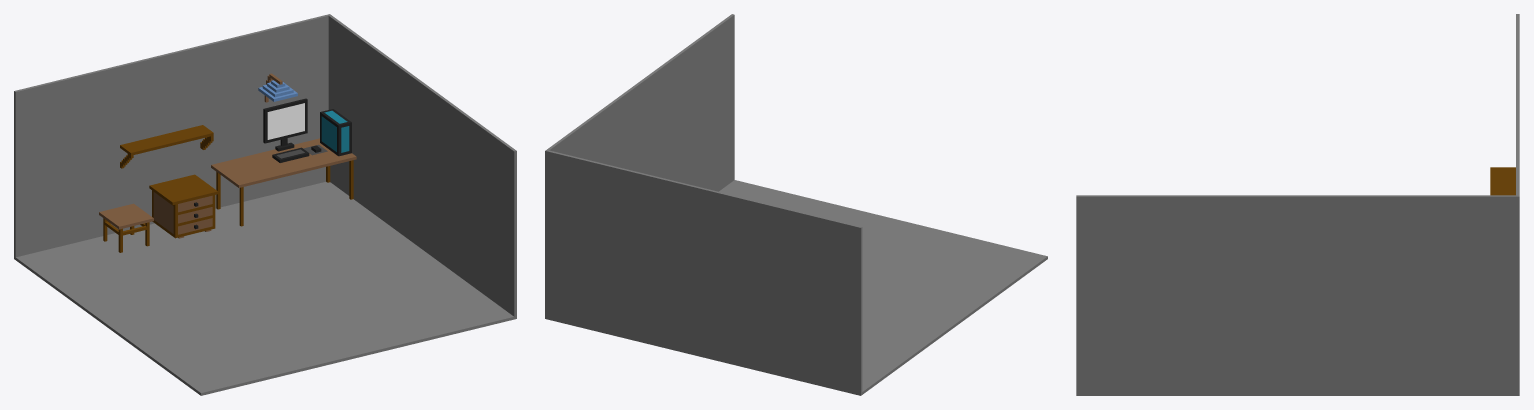
The model's file is SimpleRoomUpd.obj.
The picture shows the model from 3 angles, left to right: view 1: azimuth 30°, elevation 25°; view 2: azimuth 150°, elevation 25°; view 3: azimuth 270°, elevation 25°; orthographic projection. The views are drawn at different scales.
Bounding box in the file's own units: 11.8 × 6 × 12.1.
